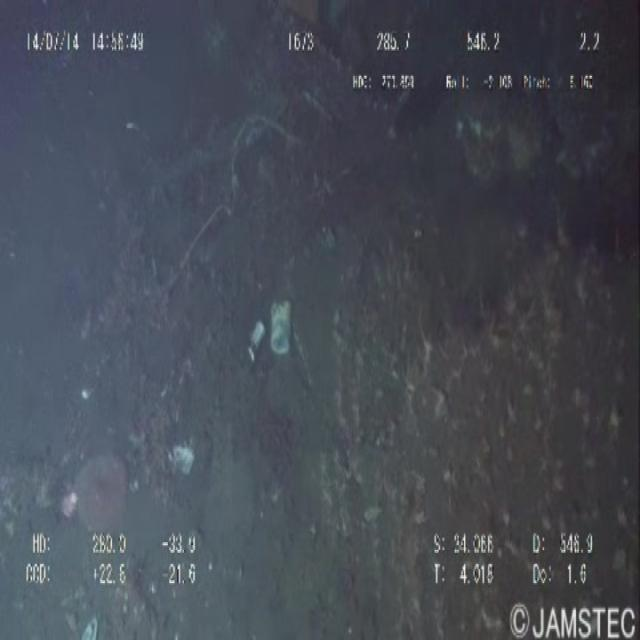Accessories: (161, 416, 206, 499)
Glass: (232, 312, 271, 370)
Plastic: (268, 293, 305, 362)
